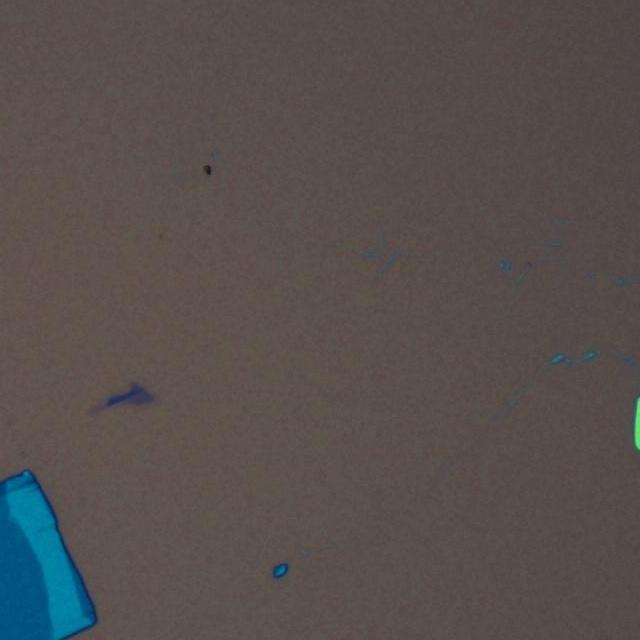monolayer-eWW4: (128, 390, 152, 406)
